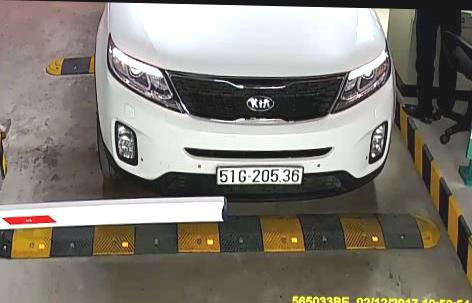License_Plate: (212, 162, 303, 189)
